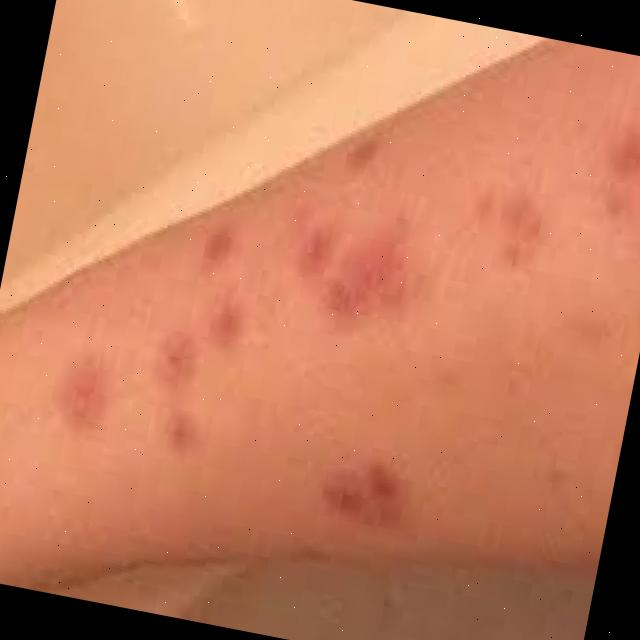kan emici bocekler: (454, 166, 555, 287), (326, 215, 426, 336), (309, 446, 409, 541), (281, 204, 343, 296), (187, 209, 250, 291), (58, 356, 116, 432), (200, 291, 262, 358), (158, 326, 204, 394), (334, 127, 387, 182), (155, 410, 206, 467)
